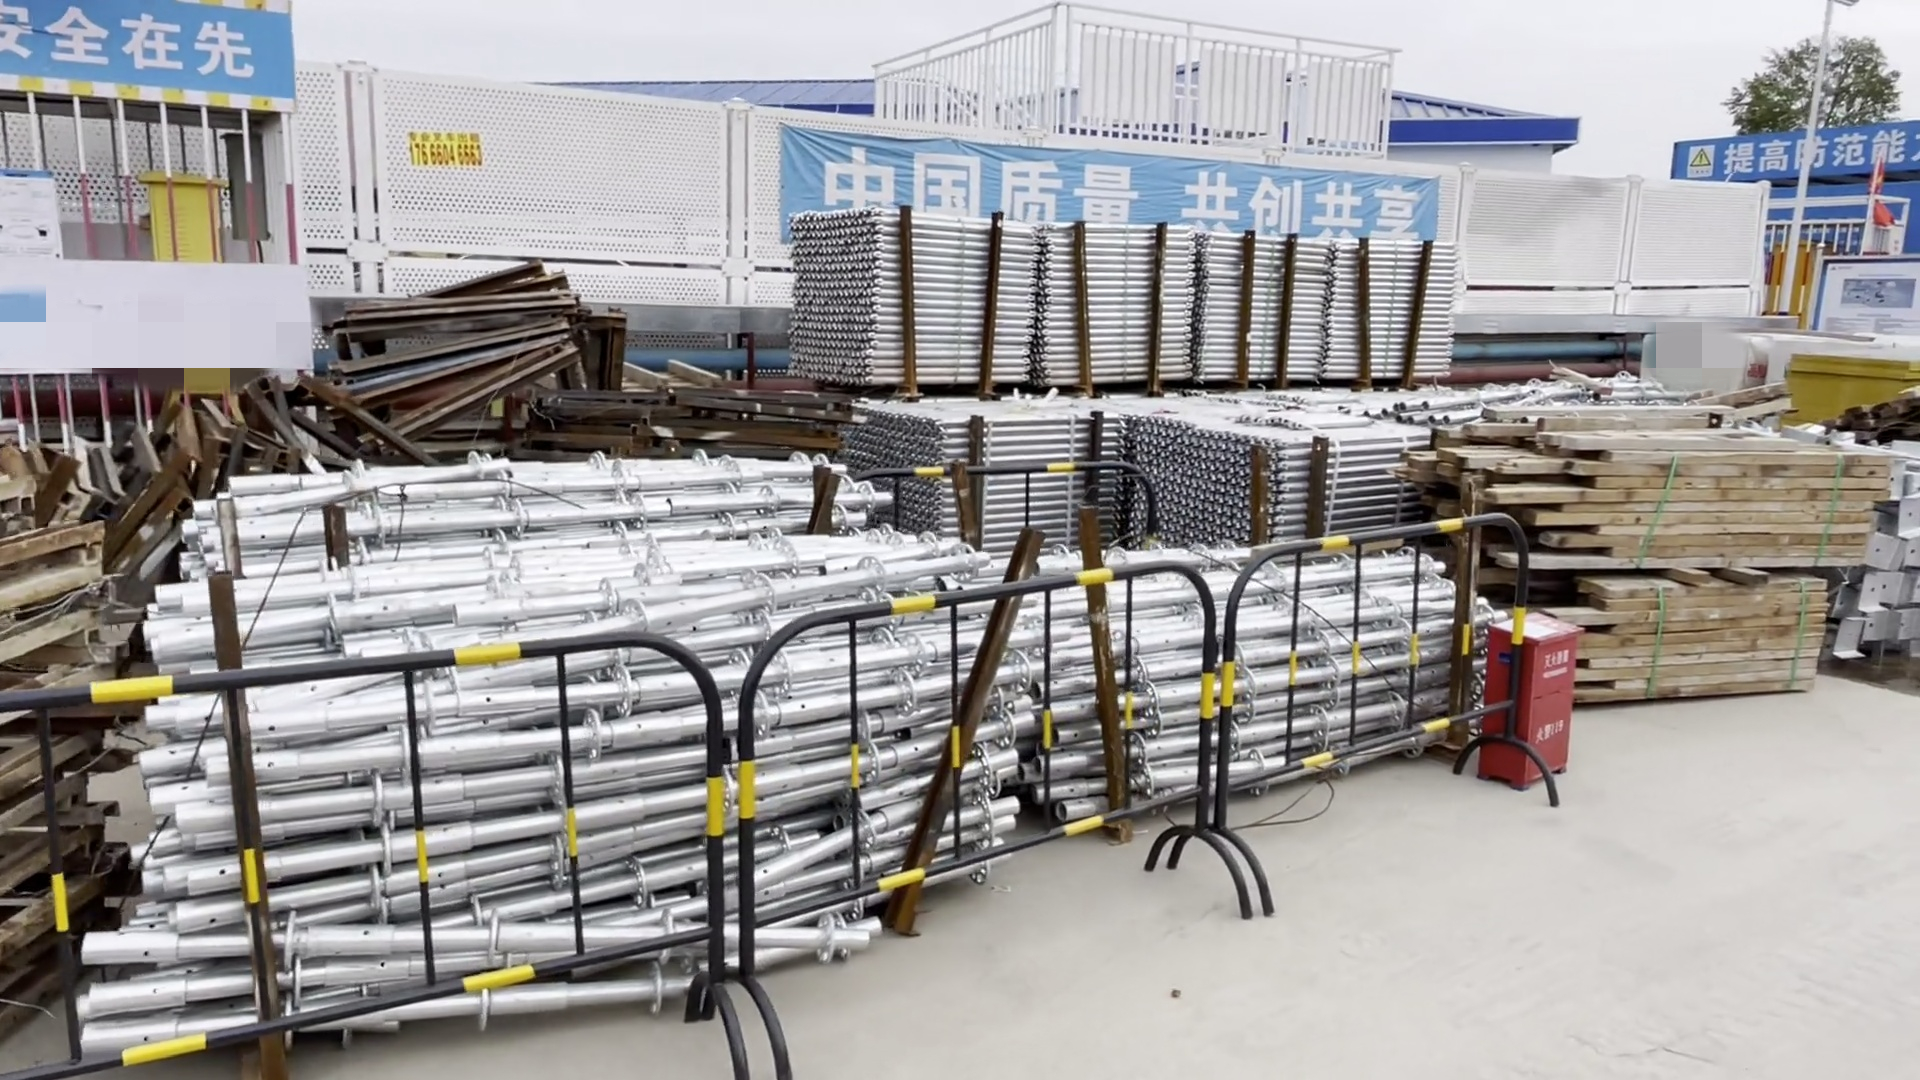scaffold: (167, 464, 1466, 1014), (810, 207, 1456, 551)
slogan: (799, 127, 1455, 276), (7, 3, 297, 99), (1680, 120, 1915, 189)
wood: (1486, 414, 1854, 762)
